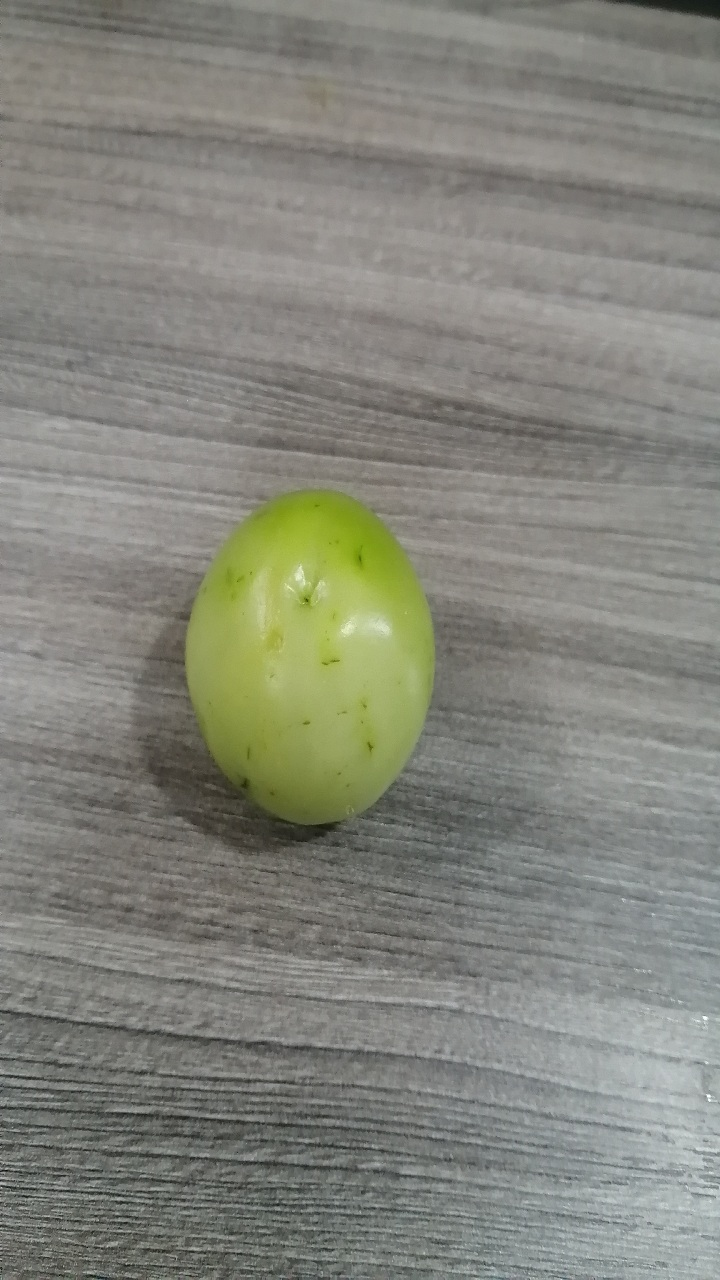tomateVerde: (174, 465, 446, 840)
